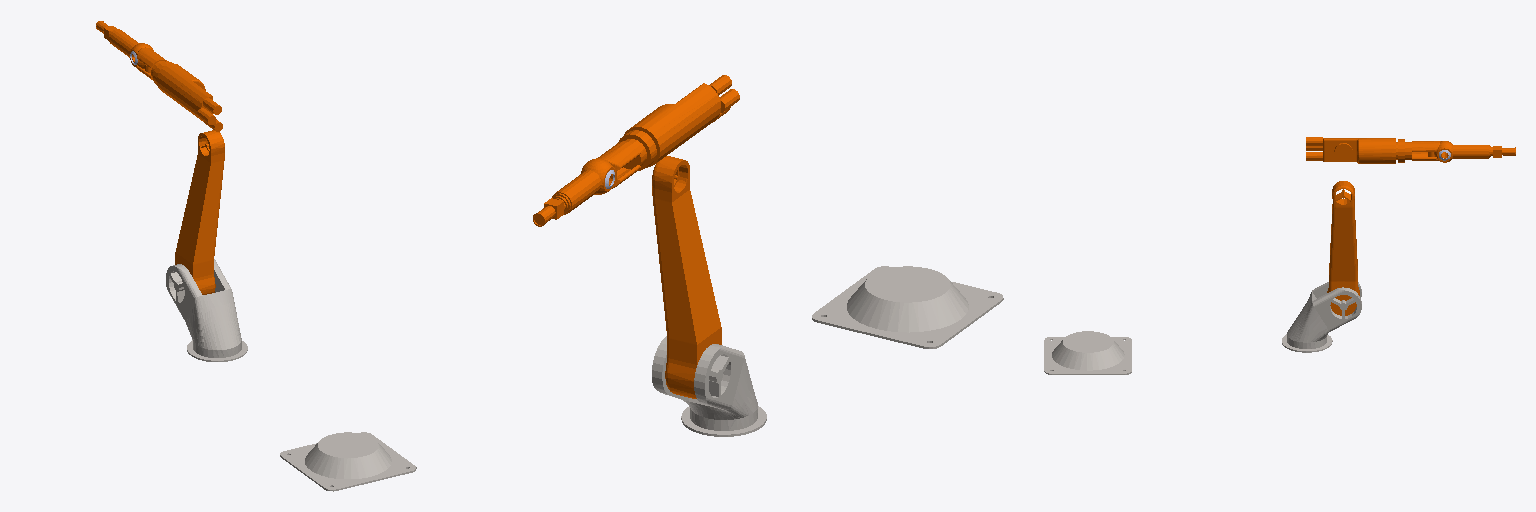
URDF robot description (robot_demo):
<robot
  name="robot_demo">
  <link
    name="base_link">
    <inertial>
      <origin
        xyz="5.43344915355979E-09 0.0443960955613356 1.72877206122885E-07"
        rpy="0 0 0" />
      <mass
        value="17.8923575005348" />
      <inertia
        ixx="0"
        ixy="0"
        ixz="0"
        iyy="0"
        iyz="0"
        izz="0" />
    </inertial>
    <visual>
      <origin
        xyz="0 0 0"
        rpy="0 0 0" />
      <geometry>
        <mesh
          filename="package://robot_demo/meshes/base_link.STL" />
      </geometry>
      <material
        name="">
        <color
          rgba="0.780392156862745 0.76078431372549 0.741176470588235 1" />
      </material>
    </visual>
    <collision>
      <origin
        xyz="0 0 0"
        rpy="0 0 0" />
      <geometry>
        <mesh
          filename="package://robot_demo/meshes/base_link.STL" />
      </geometry>
    </collision>
  </link>
  <link
    name="link1">
    <inertial>
      <origin
        xyz="1.68454688765567E-07 0.164275740780367 -0.0669943121573495"
        rpy="0 0 0" />
      <mass
        value="19.3943177662416" />
      <inertia
        ixx="0"
        ixy="0"
        ixz="0"
        iyy="0"
        iyz="0"
        izz="0" />
    </inertial>
    <visual>
      <origin
        xyz="0 0 0"
        rpy="0 0 0" />
      <geometry>
        <mesh
          filename="package://robot_demo/meshes/link1.STL" />
      </geometry>
      <material
        name="">
        <color
          rgba="0.780392156862745 0.76078431372549 0.741176470588235 1" />
      </material>
    </visual>
    <collision>
      <origin
        xyz="0 0 0"
        rpy="0 0 0" />
      <geometry>
        <mesh
          filename="package://robot_demo/meshes/link1.STL" />
      </geometry>
    </collision>
  </link>
  <joint
    name="joint1"
    type="fixed">
    <origin
      xyz="0 0 0.11"
      rpy="1.5707963267949 0 0" />
    <parent
      link="base_link" />
    <child
      link="link1" />
    <axis
      xyz="0 1 0" />
  </joint>
  <link
    name="link2">
    <inertial>
      <origin
        xyz="0.0373831005685433 0.432006247512945 1.11022302462516E-16"
        rpy="0 0 0" />
      <mass
        value="28.7296694386766" />
      <inertia
        ixx="0"
        ixy="0"
        ixz="0"
        iyy="0"
        iyz="0"
        izz="0" />
    </inertial>
    <visual>
      <origin
        xyz="0 0 0"
        rpy="0 0 0" />
      <geometry>
        <mesh
          filename="package://robot_demo/meshes/link2.STL" />
      </geometry>
      <material
        name="">
        <color
          rgba="0.909803921568627 0.443137254901961 0.0313725490196078 1" />
      </material>
    </visual>
    <collision>
      <origin
        xyz="0 0 0"
        rpy="0 0 0" />
      <geometry>
        <mesh
          filename="package://robot_demo/meshes/link2.STL" />
      </geometry>
    </collision>
  </link>
  <joint
    name="joint2"
    type="continuous">
    <origin
      xyz="0 0.322732802998902 -0.250383739680009"
      rpy="0 0 0" />
    <parent
      link="link1" />
    <child
      link="link2" />
    <axis
      xyz="1 0 0" />
  </joint>
  <link
    name="link3">
    <inertial>
      <origin
        xyz="0.0376124272335748 1.78208844243688E-05 -0.228962462587081"
        rpy="0 0 0" />
      <mass
        value="16.0188527649003" />
      <inertia
        ixx="0"
        ixy="0"
        ixz="0"
        iyy="0"
        iyz="0"
        izz="0" />
    </inertial>
    <visual>
      <origin
        xyz="0 0 0"
        rpy="0 0 0" />
      <geometry>
        <mesh
          filename="package://robot_demo/meshes/link3.STL" />
      </geometry>
      <material
        name="">
        <color
          rgba="0.909803921568627 0.443137254901961 0.0313725490196078 1" />
      </material>
    </visual>
    <collision>
      <origin
        xyz="0 0 0"
        rpy="0 0 0" />
      <geometry>
        <mesh
          filename="package://robot_demo/meshes/link3.STL" />
      </geometry>
    </collision>
  </link>
  <joint
    name="joint3"
    type="continuous">
    <origin
      xyz="0 1.13860941000177 0"
      rpy="0 0 0" />
    <parent
      link="link2" />
    <child
      link="link3" />
    <axis
      xyz="1 0 0" />
  </joint>
  
  <link
    name="link5">
    <inertial>
      <origin
        xyz="2.93140081146503E-07 -9.60658386173208E-08 -2.49826296316868E-08"
        rpy="0 0 0" />
      <mass
        value="0.844952599159698" />
      <inertia
        ixx="0"
        ixy="0"
        ixz="0"
        iyy="0"
        iyz="0"
        izz="0" />
    </inertial>
    <visual>
      <origin
        xyz="0 0 0"
        rpy="0 0 0" />
      <geometry>
        <mesh
          filename="package://robot_demo/meshes/link5.STL" />
      </geometry>
      <material
        name="">
        <color
          rgba="0.792156862745098 0.819607843137255 0.933333333333333 1" />
      </material>
    </visual>
    <collision>
      <origin
        xyz="0 0 0"
        rpy="0 0 0" />
      <geometry>
        <mesh
          filename="package://robot_demo/meshes/link5.STL" />
      </geometry>
    </collision>
  </link>
  <joint
    name="joint5"
    type="continuous">
    <origin
      xyz="0.0483407685108505 0 -0.693420367397096"
      rpy="0 0 0" />
    <parent
      link="link3" />
    <child
      link="link5" />
    <axis
      xyz="0 1 0" />
  </joint>
  <link
    name="link4">
    <inertial>
      <origin
        xyz="1.38777878078145E-17 2.22044604925031E-16 -0.0421562874301625"
        rpy="0 0 0" />
      <mass
        value="2.22702219995936" />
      <inertia
        ixx="0"
        ixy="0"
        ixz="0"
        iyy="0"
        iyz="0"
        izz="0" />
    </inertial>
    <visual>
      <origin
        xyz="0 0 0"
        rpy="0 0 0" />
      <geometry>
        <mesh
          filename="package://robot_demo/meshes/link4.STL" />
      </geometry>
      <material
        name="">
        <color
          rgba="0.909803921568627 0.443137254901961 0.0313725490196078 1" />
      </material>
    </visual>
    <collision>
      <origin
        xyz="0 0 0"
        rpy="0 0 0" />
      <geometry>
        <mesh
          filename="package://robot_demo/meshes/link4.STL" />
      </geometry>
    </collision>
  </link>
  <joint
    name="joint4"
    type="continuous">
    <origin
      xyz="0 0 0"
      rpy="0 0 0" />
    <parent
      link="link5" />
    <child
      link="link4" />
    <axis
      xyz="1 0 0" />
  </joint>
  <link
    name="camera">
    <inertial>
      <origin
        xyz="0 2.22044604925031E-16 -0.0681881207360688"
        rpy="0 0 0" />
      <mass
        value="0.430020999525805" />
      <inertia
        ixx="0"
        ixy="0"
        ixz="0"
        iyy="0"
        iyz="0"
        izz="0" />
    </inertial>
    <visual>
      <origin
        xyz="0 0 0"
        rpy="0 0 0" />
      <geometry>
        <mesh
          filename="package://robot_demo/meshes/camera.STL" />
      </geometry>
      <material
        name="">
        <color
          rgba="0.792156862745098 0.819607843137255 0.933333333333333 1" />
      </material>
    </visual>
    <collision>
      <origin
        xyz="0 0 0"
        rpy="0 0 0" />
      <geometry>
        <mesh
          filename="package://robot_demo/meshes/camera.STL" />
      </geometry>
    </collision>
  </link>
  <joint
    name="joint_camera"
    type="fixed">
    <origin
      xyz="0 0 -0.18"
      rpy="0 0 0" />
    <parent
      link="link4" />
    <child
      link="camera" />
    <axis
      xyz="0 0 0" />
  </joint>
</robot>

--- Facts derived from the render (not from the file) ---
3 views of the same robot in one strip: view 1: azimuth 30°, elevation 25°; view 2: azimuth 150°, elevation 25°; view 3: azimuth 270°, elevation 25° (orthographic).
Model robot_demo with 7 links and 6 joints (4 continuous, 2 fixed), rooted at base_link, posed every joint at zero.
Links seen in each view (by area): view 1: base_link, link2, link1, link3, link4; view 2: link2, base_link, link1, link3, link4; view 3: base_link, link3, link1, link2, link4.
Link boxes in pixels (box(x1,y1,x2,y2)): base_link: box(280, 432, 416, 491); link2: box(175, 130, 224, 294); link1: box(166, 259, 247, 361); link3: box(137, 47, 222, 131); link4: box(96, 21, 153, 68); link2: box(652, 156, 721, 398); base_link: box(812, 266, 1003, 348); link1: box(652, 336, 766, 436); link3: box(598, 75, 739, 188); link4: box(533, 158, 615, 226); base_link: box(1044, 331, 1131, 374); link3: box(1306, 137, 1440, 163); link1: box(1282, 282, 1361, 352); link2: box(1327, 181, 1359, 315); link4: box(1434, 141, 1515, 162).
Size in the robot's own frame: 0.6 by 3.23 by 1.66 metres.
Meshes: 7 distinct files referenced, 7 mesh visuals loaded (7 binary STL).